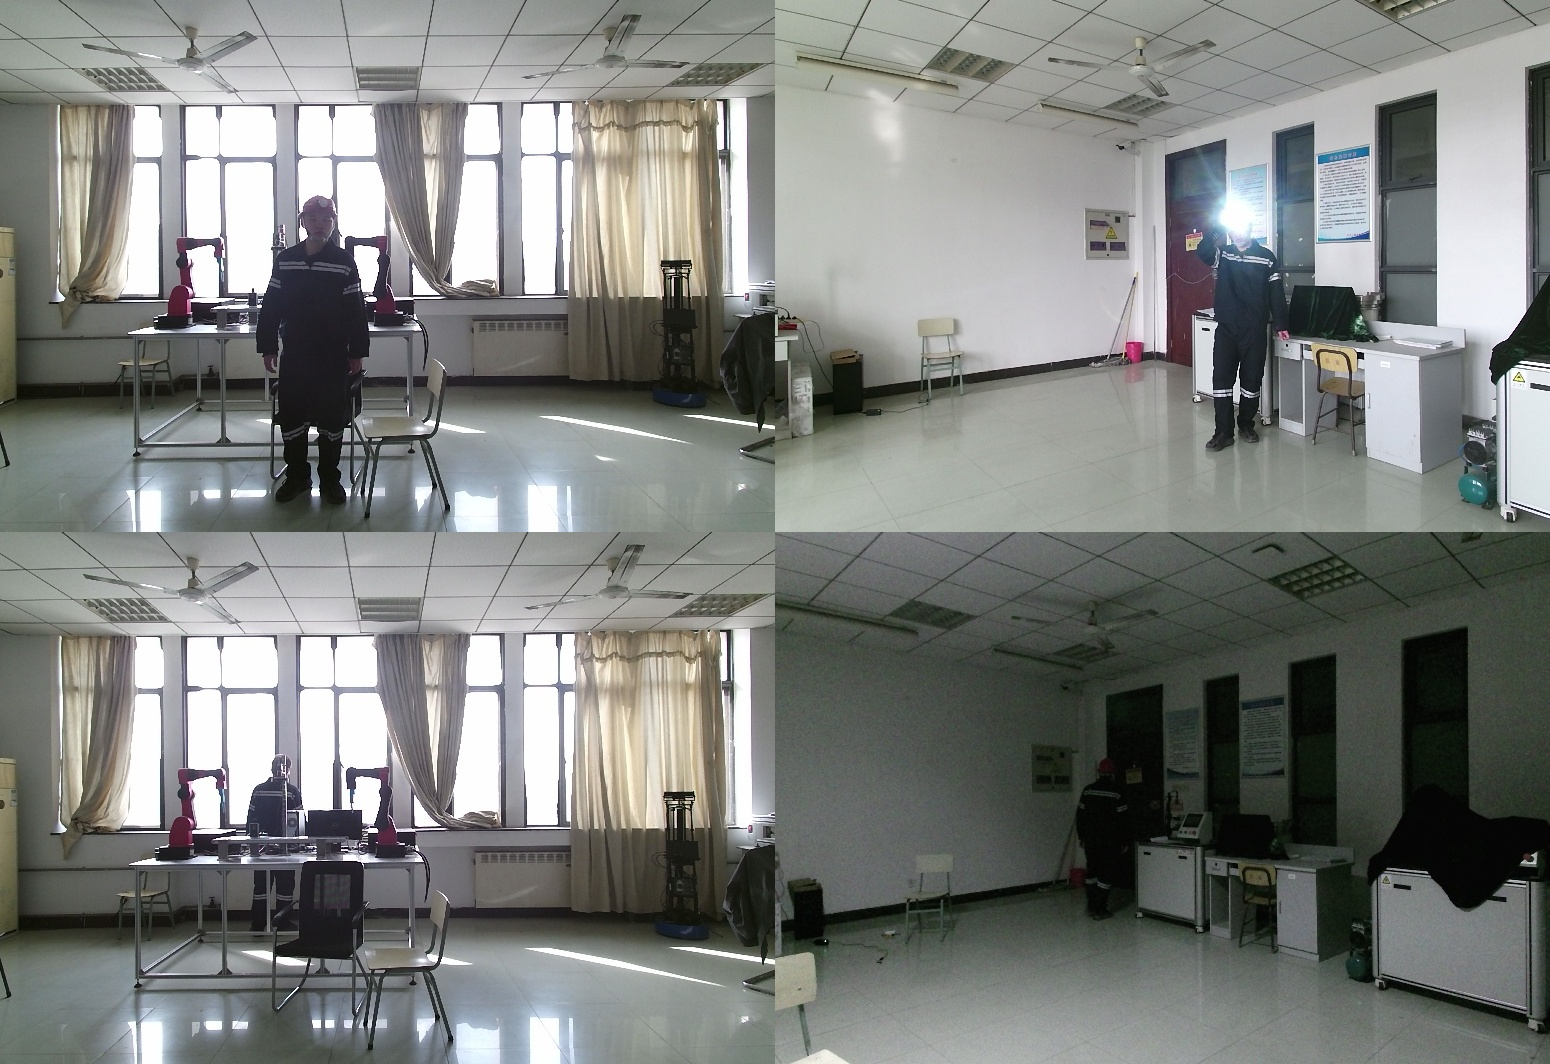person: (258, 196, 373, 511), (1197, 205, 1297, 451), (247, 756, 314, 948), (1071, 760, 1134, 931)
